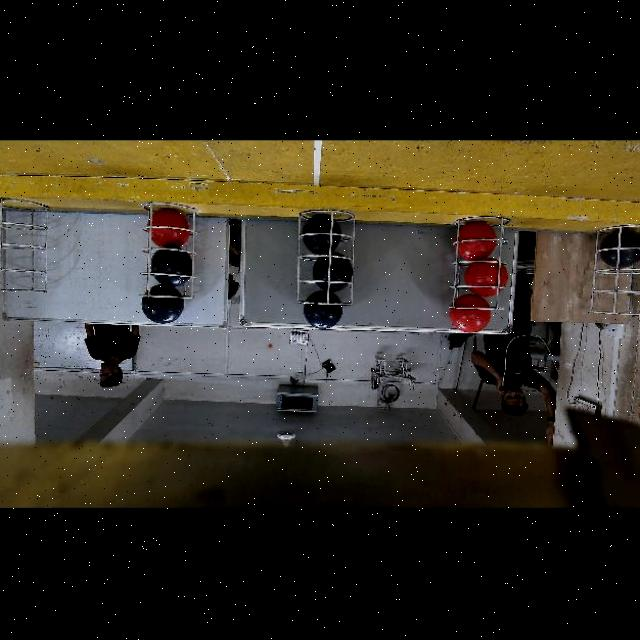P: (143, 284, 185, 323), (312, 253, 353, 292), (152, 247, 192, 286), (304, 289, 343, 329), (303, 215, 342, 254), (601, 229, 640, 267)
R: (150, 209, 192, 248), (450, 294, 491, 332), (457, 220, 496, 259), (465, 260, 507, 296)
S: (443, 208, 513, 314), (140, 203, 202, 303), (0, 199, 60, 295), (296, 208, 354, 306), (590, 228, 640, 320)
